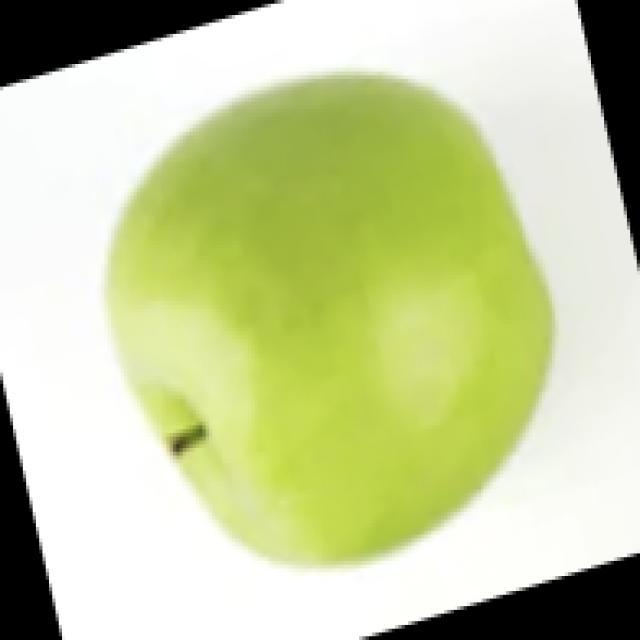Fresh Apple: (108, 65, 555, 562)
